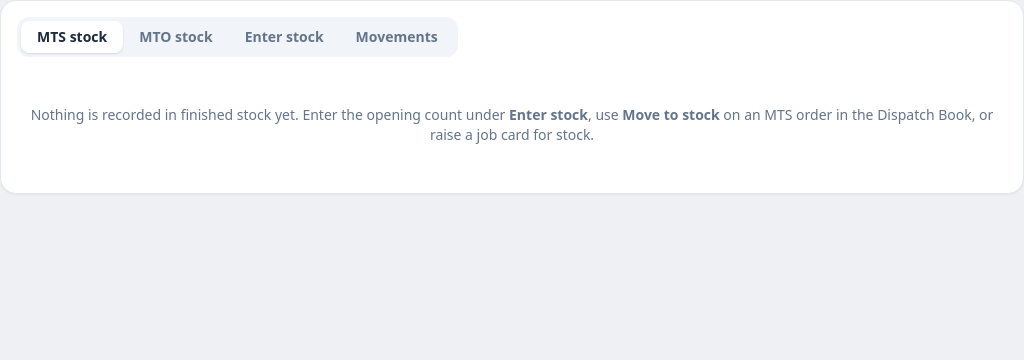
Test case: refuses an issue that does not name the order
Click the tab "Enter stock". click: (284, 37)
box: [229,21,340,53]
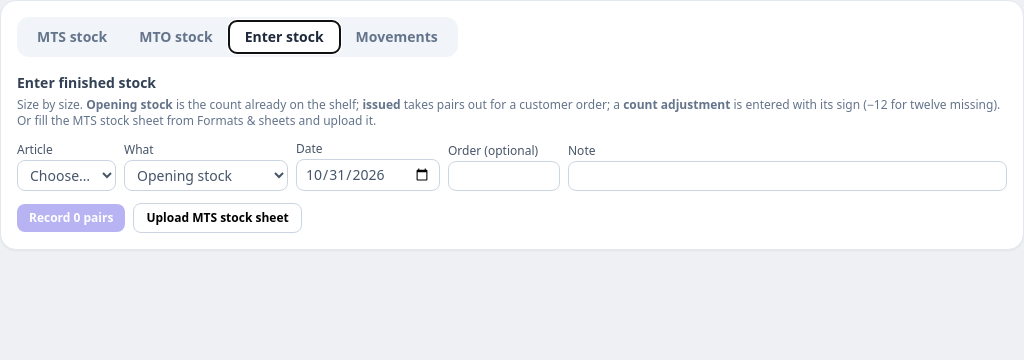
Select "SPIKE" in the dropdown labelled "Article". click: (66, 176)
box: [17,160,116,191]
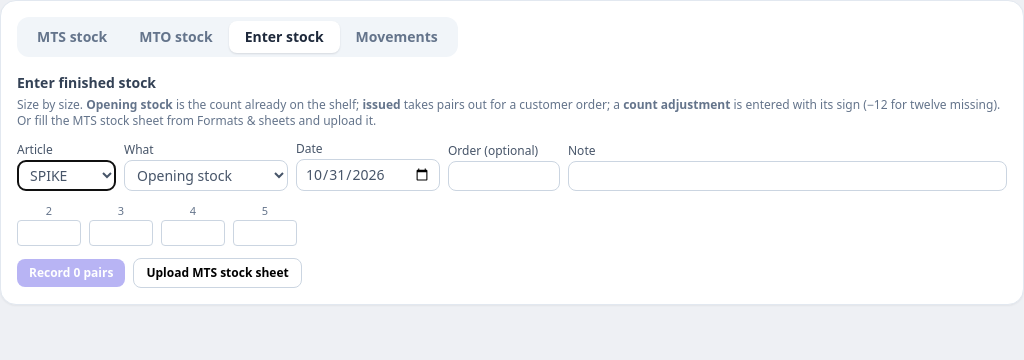
Select "Issued out of stock" in the dropdown named "Movement kind". click: (206, 176)
box: [124,160,288,191]
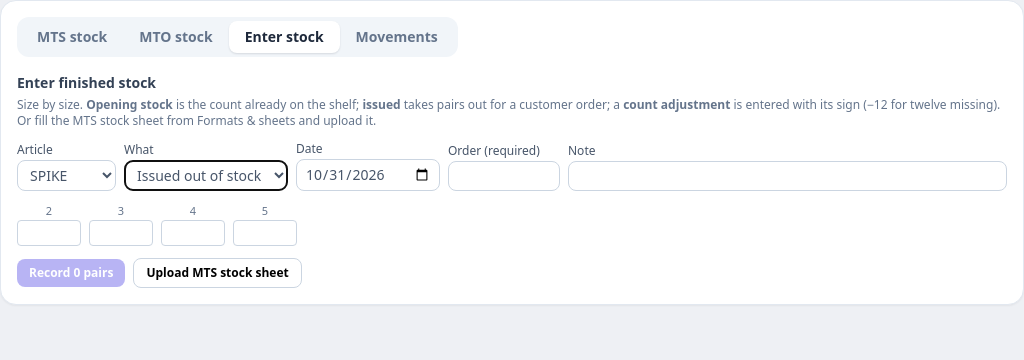
Type "5" into the number field named "Pairs of size 2". click: (49, 232)
box: [17,220,81,246]
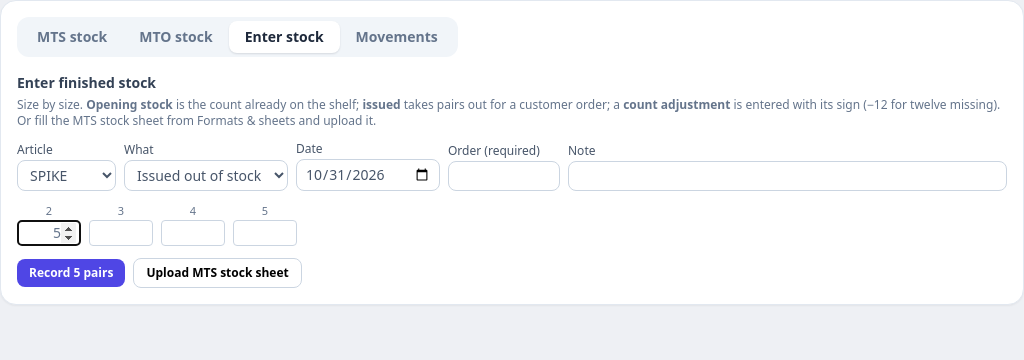
Click the button "Record 5 pairs". click: (71, 272)
box: [17,258,125,286]
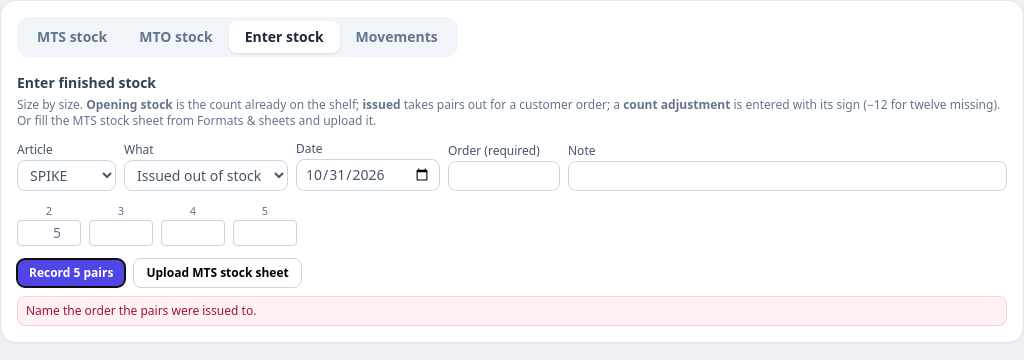
Expected: the message shows "Name the order", [26,302,256,318]
